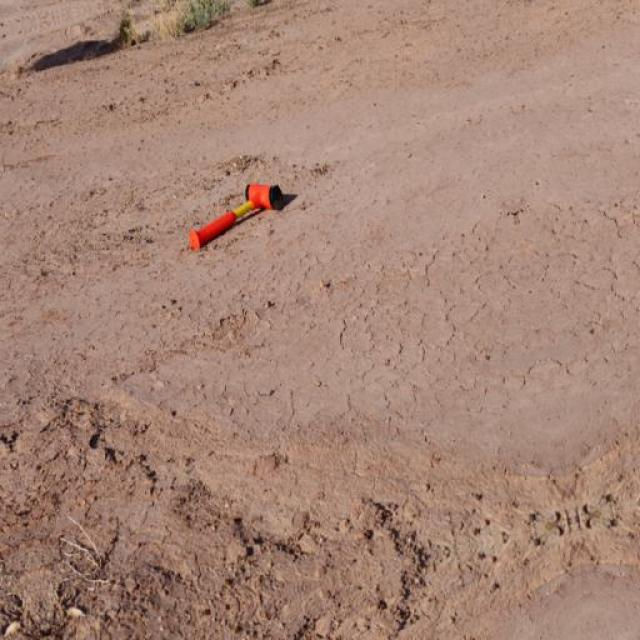mallet: (188, 181, 282, 251)
